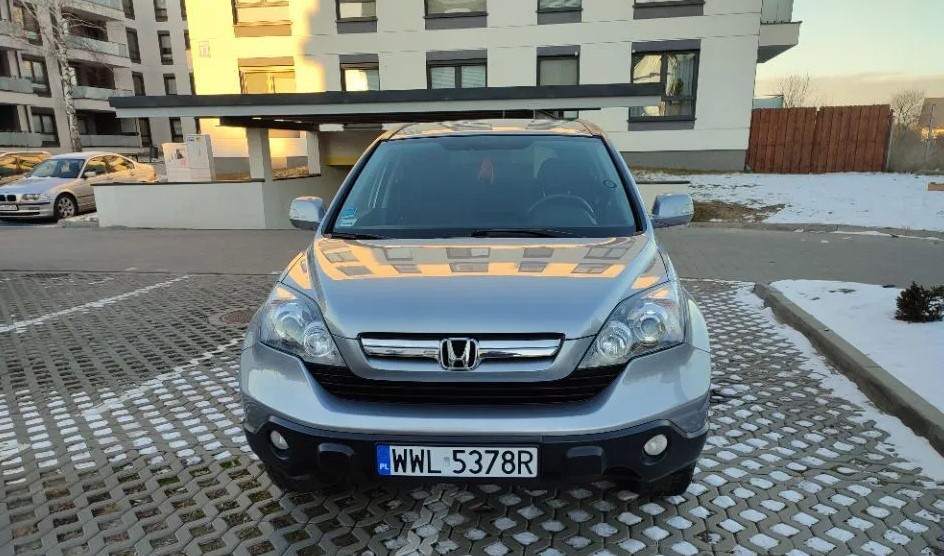number_plate: (361, 432, 555, 493)
